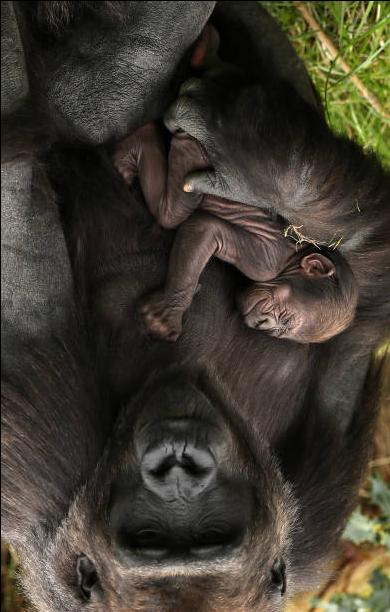gorille_Autres: (1, 0, 390, 611)
